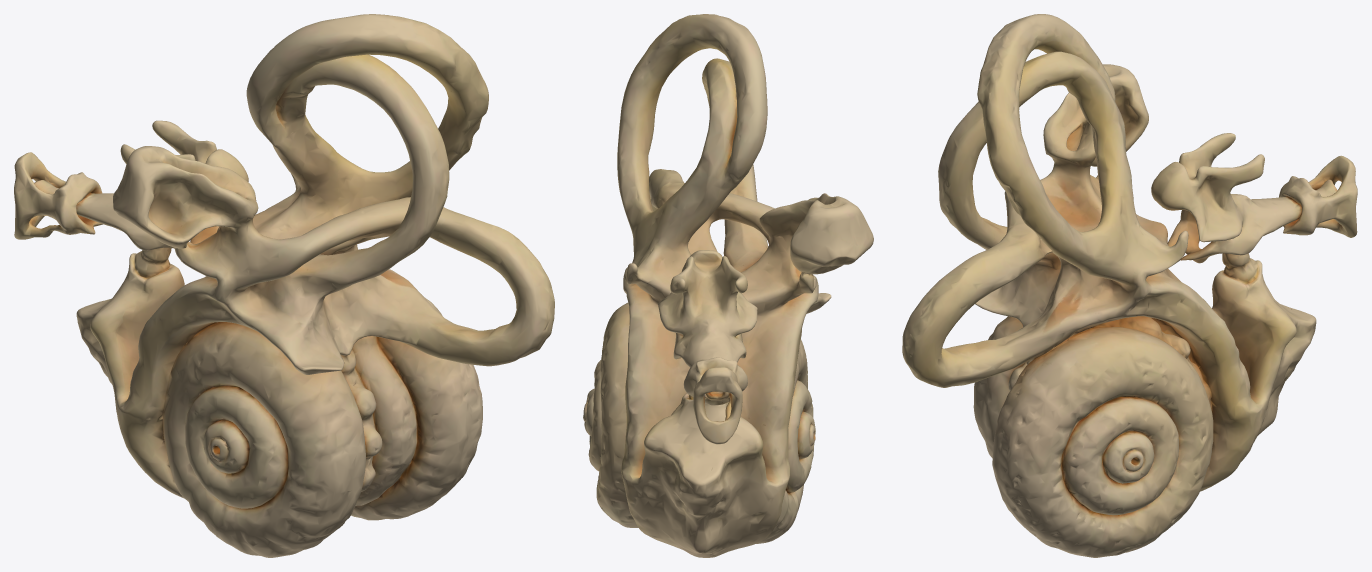
File: ear.glb
3 views of the same model, side by side, from view 1: azimuth 30°, elevation 25°; view 2: azimuth 150°, elevation 25°; view 3: azimuth 270°, elevation 25° (orthographic). The views are drawn at different scales.
Parts seen in each view (by area): view 1: tripo_node_f57d1d54-4116-4b8d-b529-5a76c1eb9c9c; view 2: tripo_node_f57d1d54-4116-4b8d-b529-5a76c1eb9c9c; view 3: tripo_node_f57d1d54-4116-4b8d-b529-5a76c1eb9c9c.
Part boxes in pixels (left/top/right/bottom): tripo_node_f57d1d54-4116-4b8d-b529-5a76c1eb9c9c: left=14, top=14, right=554, bottom=557; tripo_node_f57d1d54-4116-4b8d-b529-5a76c1eb9c9c: left=583, top=14, right=873, bottom=557; tripo_node_f57d1d54-4116-4b8d-b529-5a76c1eb9c9c: left=902, top=14, right=1357, bottom=557.
Size of the model in its own units: 0.6488 by 0.9999 by 0.8156.
Materials: 1 (1 with a texture image).
